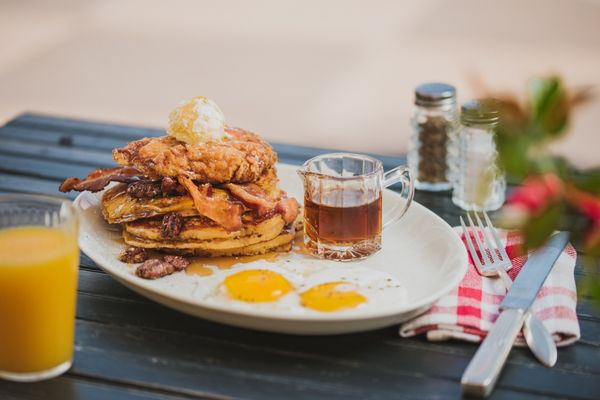sandwich: (458, 231, 569, 398)
soup: (57, 96, 302, 257)
